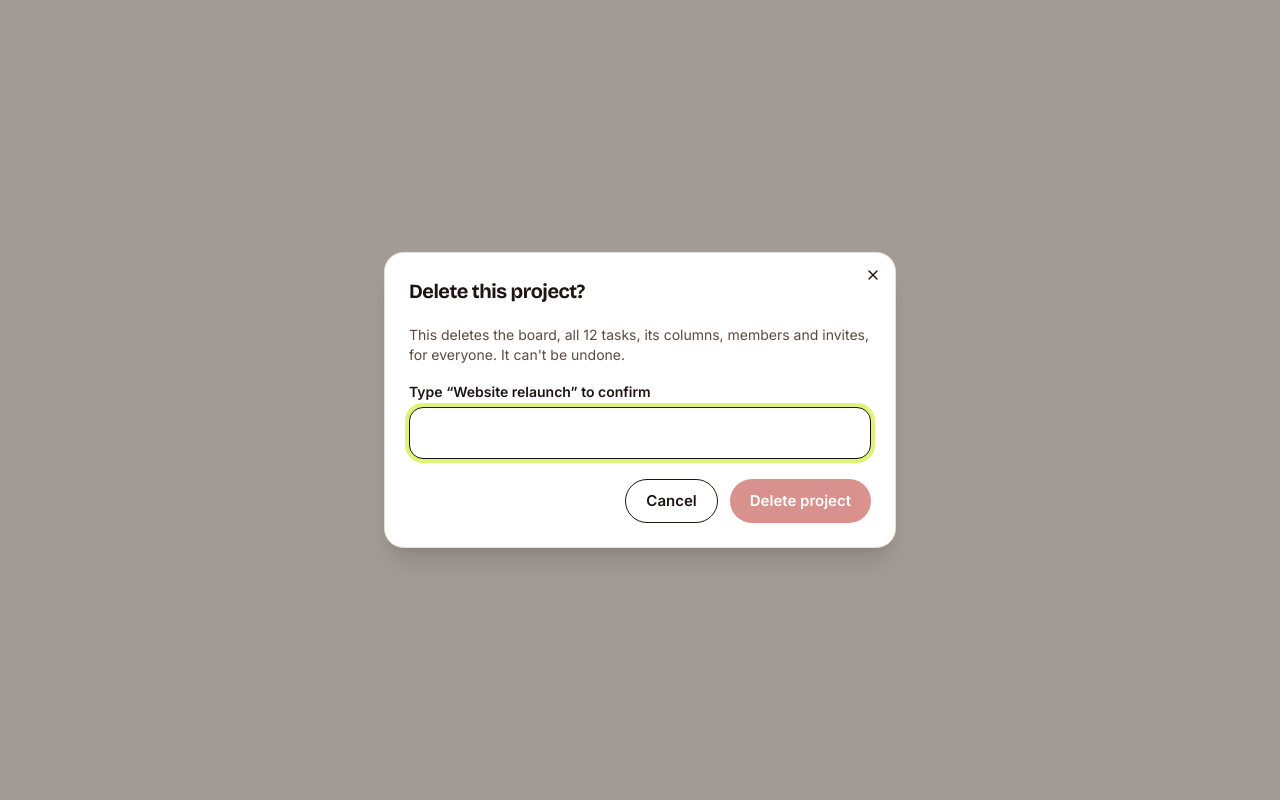
Test case: DeleteProjectDialog › shows the server's NAME_MISMATCH on the field
Type "Website relaunch" into the field labelled "Type “Website relaunch” to confirm" at coordinates (640, 433), box [409,407,871,459]
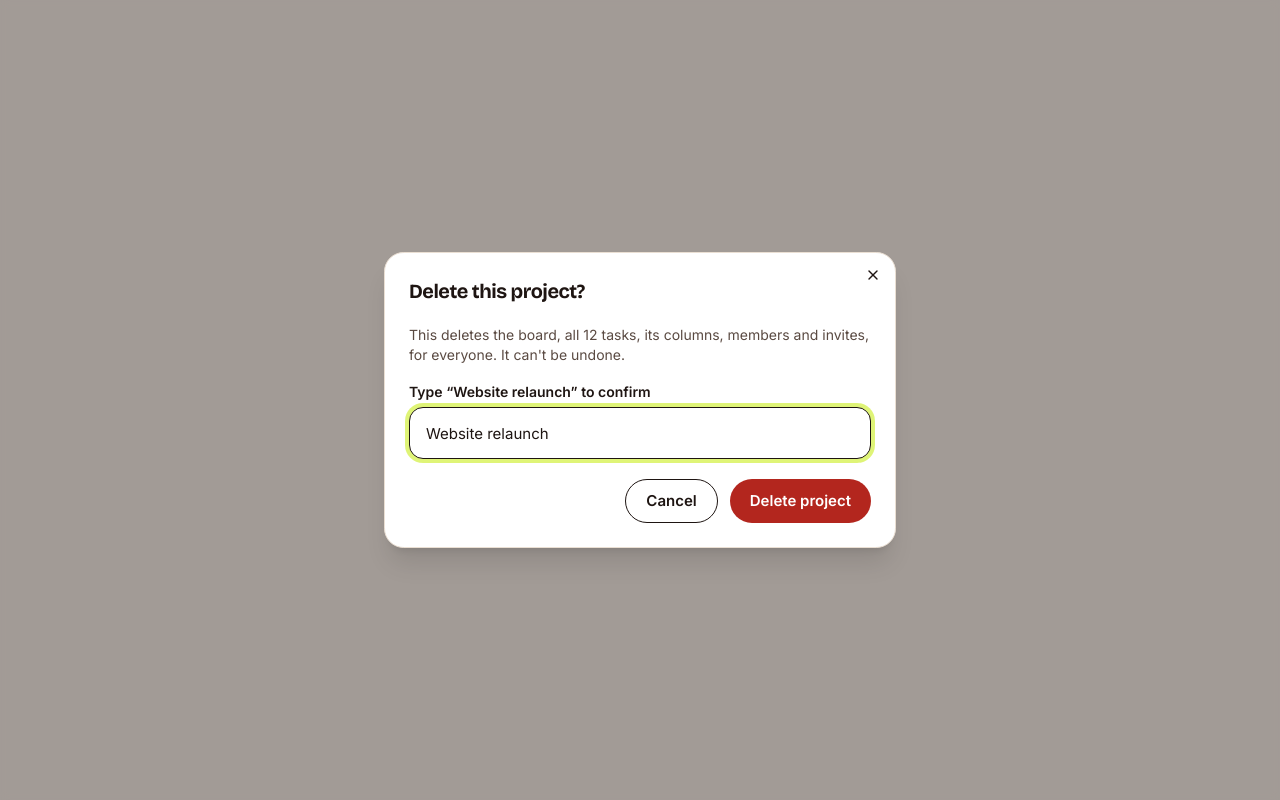
Click the button "Delete project" at coordinates (800, 501), box [730,479,871,523]
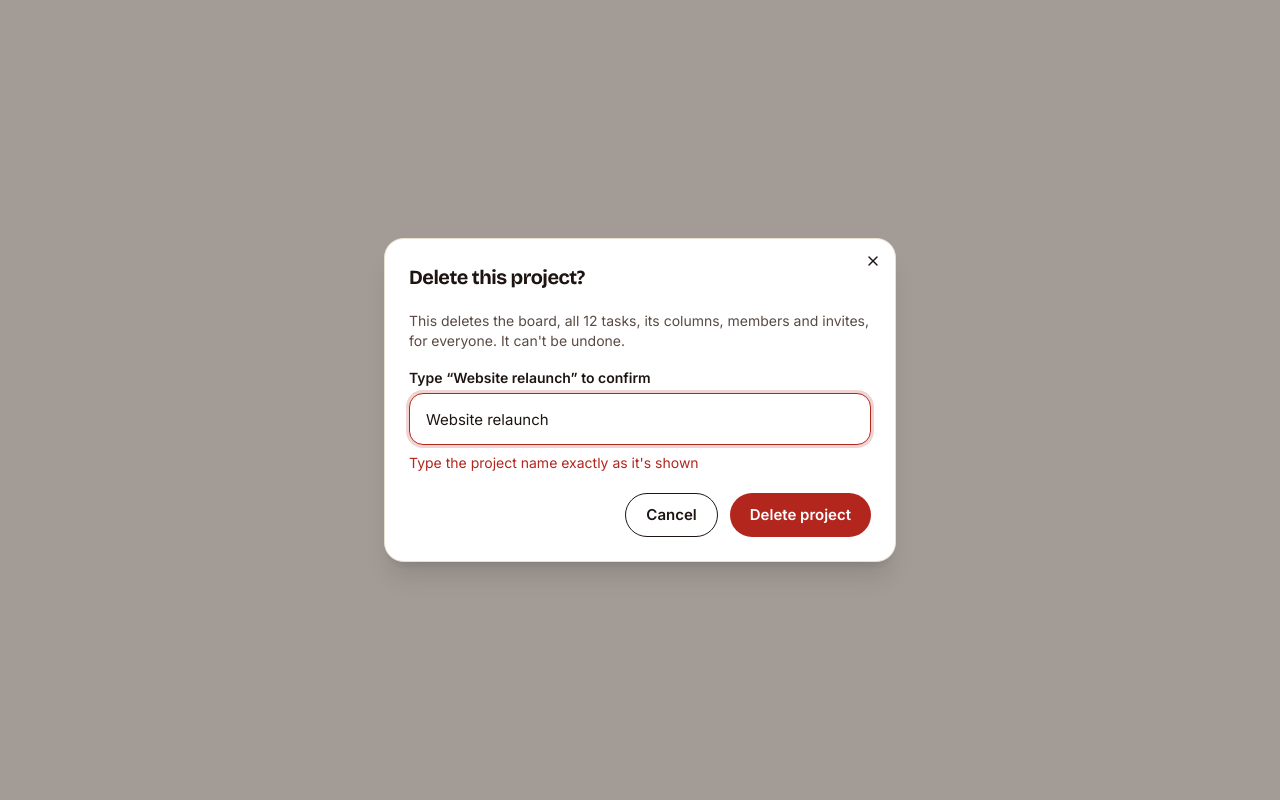
Expected: the text "Type the project name exactly as it's shown" is shown, [409,454,699,471]
